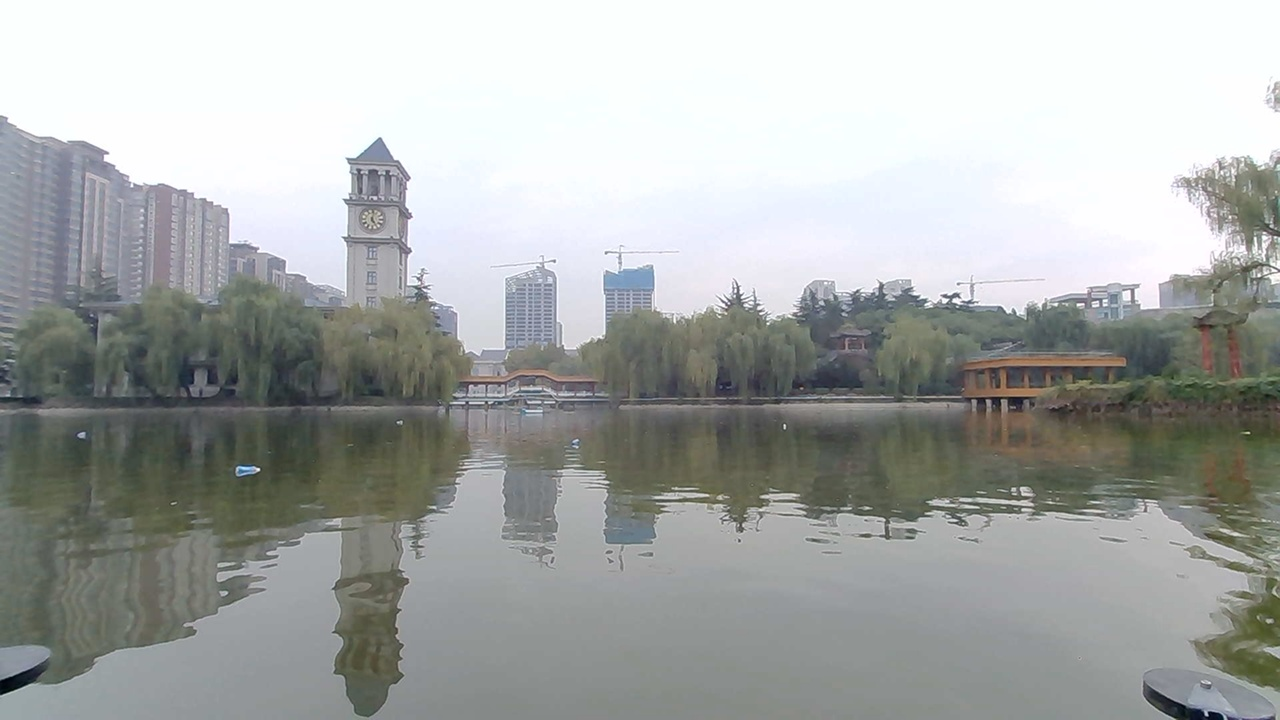bottle: (556, 426, 590, 453), (70, 421, 108, 445), (775, 414, 805, 440), (230, 461, 267, 482), (386, 411, 415, 433)
